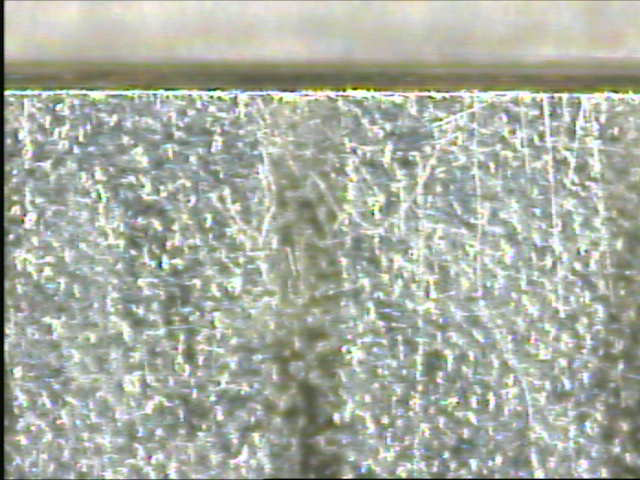line: (262, 104, 344, 466)
